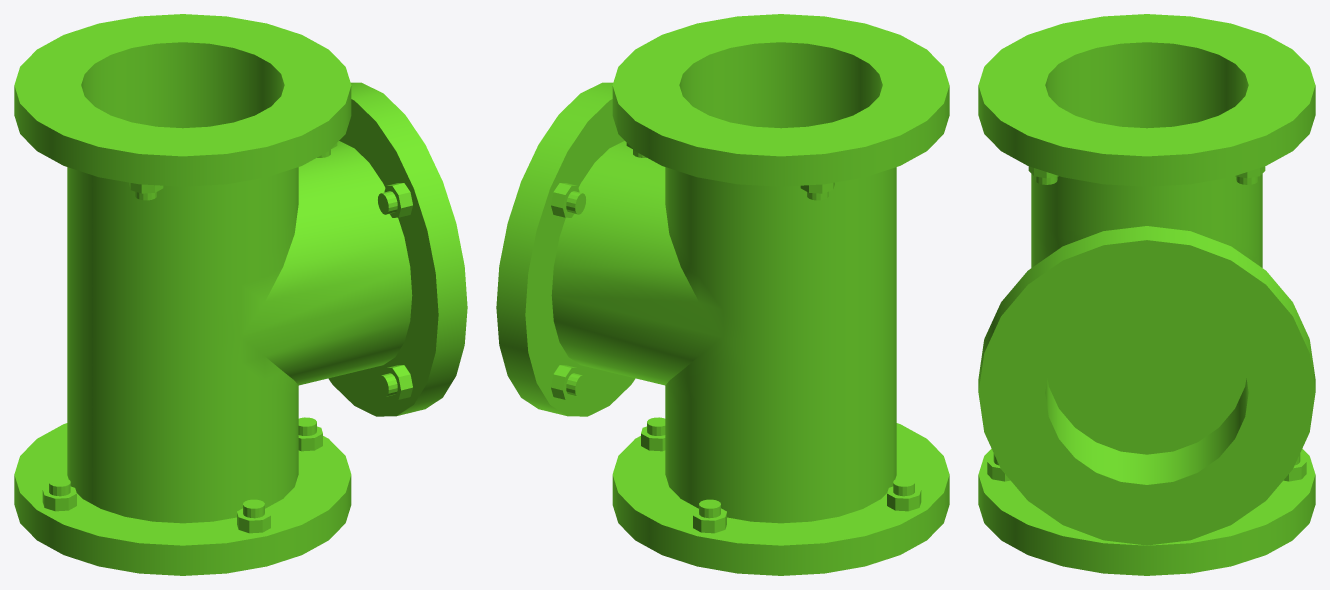
Rendered from T-Pipe.fbx.
3 renders of one model, left to right at view 1: azimuth 30°, elevation 25°; view 2: azimuth 150°, elevation 25°; view 3: azimuth 270°, elevation 25°, orthographic.
Visible parts, largest first — view 1: T-Pipe; view 2: T-Pipe; view 3: T-Pipe.
Part boxes in pixels (bbox=[...]): T-Pipe: bbox=[14, 14, 467, 575]; T-Pipe: bbox=[496, 14, 949, 575]; T-Pipe: bbox=[978, 14, 1315, 575].
Bounding box in the file's own units: 130 × 150 × 109.
